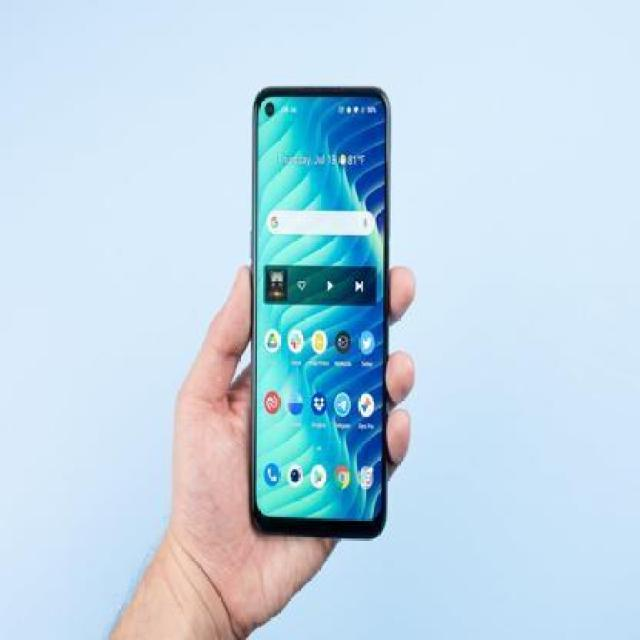not trash: (246, 74, 386, 537)
